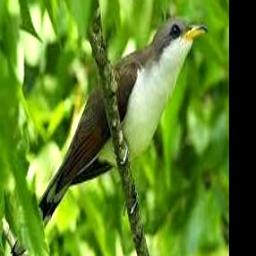Cuckoo: (11, 17, 208, 256)
